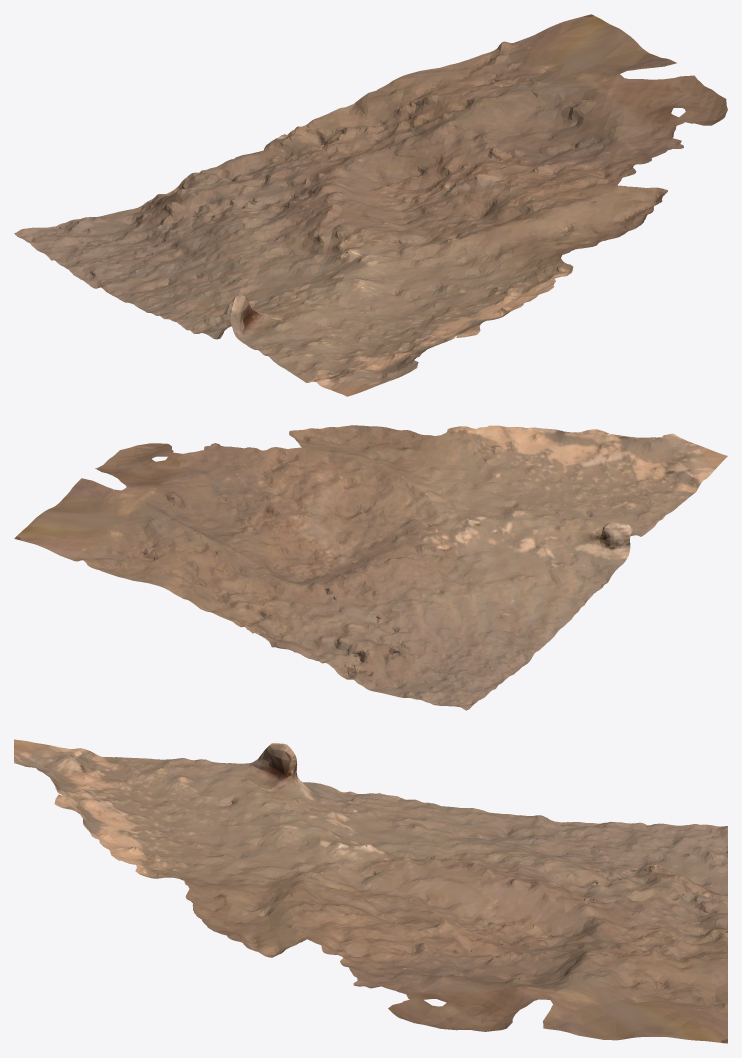
3 views of the same model, one above another, from view 1: azimuth 30°, elevation 25°; view 2: azimuth 150°, elevation 25°; view 3: azimuth 270°, elevation 25° (orthographic). The views are drawn at different scales.
Size of the model in its own units: 1.04 by 0.1705 by 1.04.
Materials: 2 (2 with a texture image).
